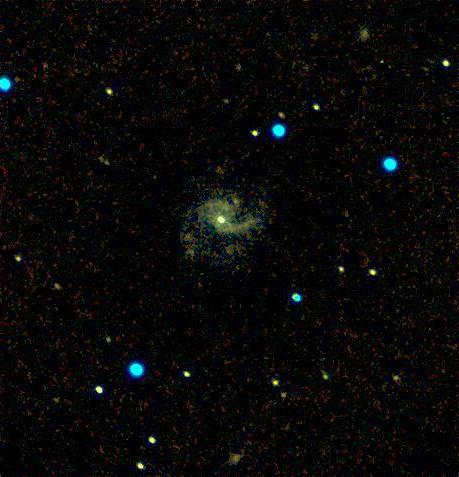star: (223, 184, 253, 214)
